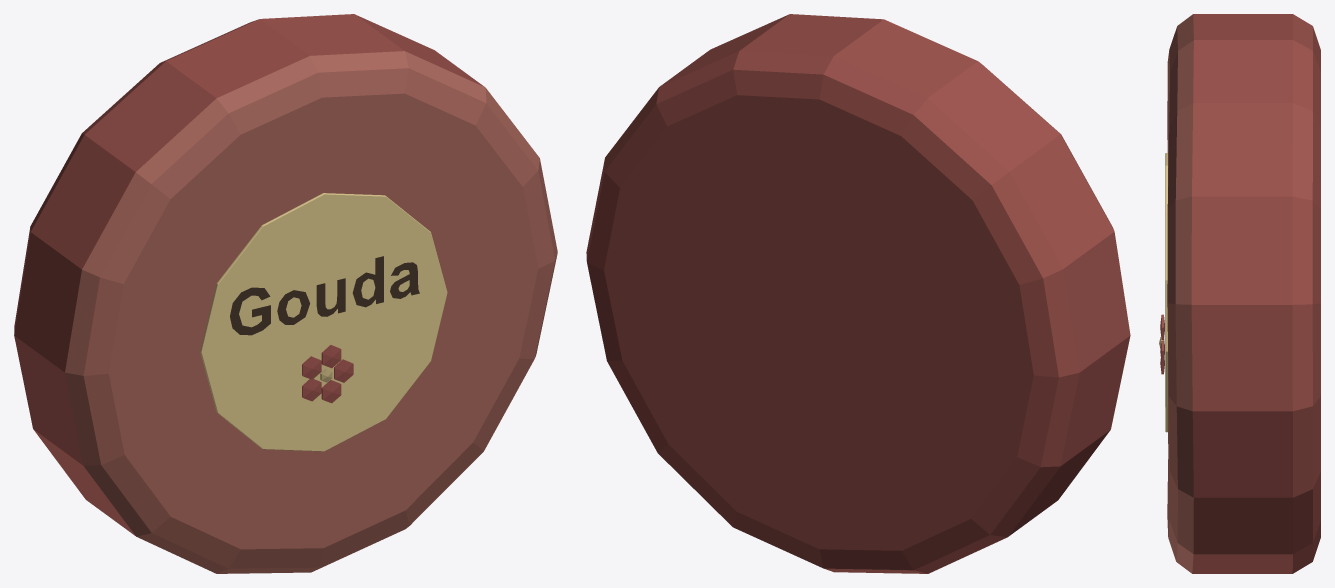
File: gouda.glb
The picture shows the model from 3 angles, left to right: view 1: azimuth 30°, elevation 25°; view 2: azimuth 150°, elevation 25°; view 3: azimuth 270°, elevation 25°; orthographic projection.
Parts seen in each view (by area): view 1: gouda; view 2: gouda; view 3: gouda.
Part boxes in pixels (x1=…): gouda: x1=14, y1=14, x2=557, y2=573; gouda: x1=586, y1=14, x2=1130, y2=573; gouda: x1=1159, y1=14, x2=1320, y2=573.
Bounding box in the file's own units: 0.14 × 0.14 × 0.0404.
